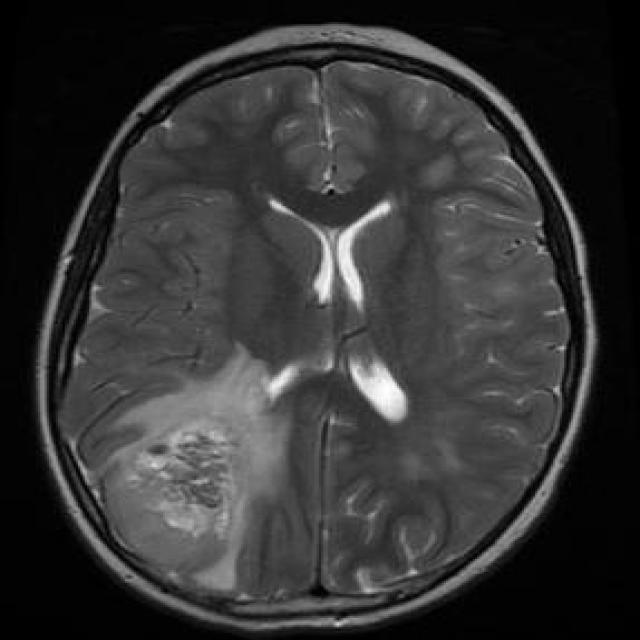Tumor-Cell: (100, 405, 306, 598)
